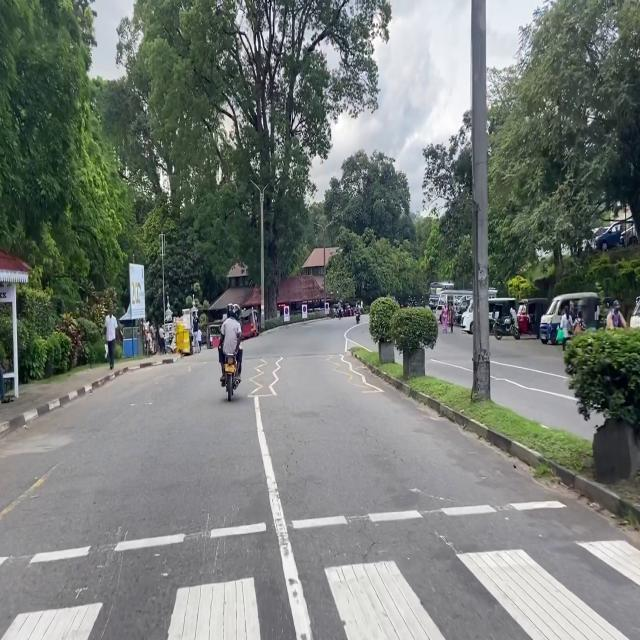bus: (435, 288, 497, 322), (429, 281, 454, 311)
motorcycle: (493, 308, 520, 340), (224, 355, 239, 401), (419, 295, 425, 307), (355, 312, 360, 324), (413, 299, 417, 307)
person: (218, 303, 242, 386), (105, 304, 117, 369), (560, 306, 574, 351), (606, 300, 626, 329), (573, 311, 586, 335), (192, 311, 199, 353), (442, 303, 448, 334), (448, 302, 454, 333), (159, 325, 165, 354), (150, 320, 155, 354), (197, 327, 202, 351), (337, 301, 341, 320), (355, 300, 360, 311), (360, 300, 363, 313)
three wheeler: (517, 298, 548, 338), (578, 294, 613, 329), (488, 297, 516, 332), (240, 308, 258, 340)
van: (540, 292, 598, 344), (454, 296, 471, 325), (461, 300, 473, 334)
